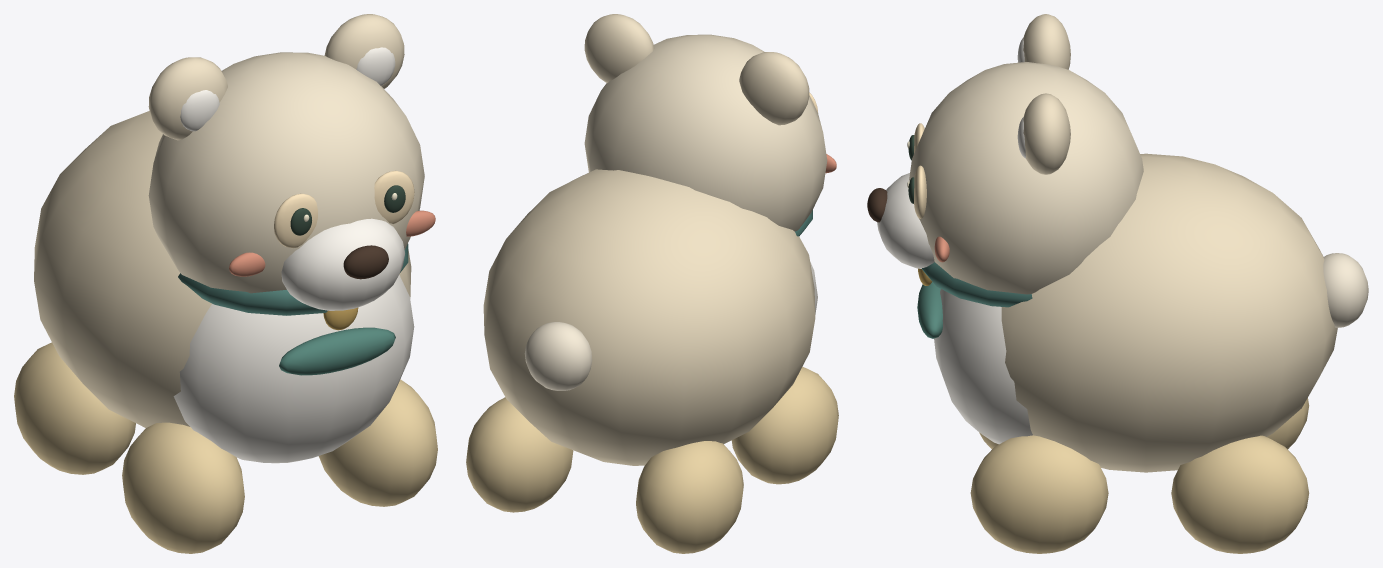
File: ursine.glb
3 renders of one model, left to right at view 1: azimuth 30°, elevation 25°; view 2: azimuth 150°, elevation 25°; view 3: azimuth 270°, elevation 25°, orthographic. The views are drawn at different scales.
Visible parts, largest first — view 1: body, leg (×3), ear (×4), eye (×2); view 2: body, leg (×3), ear (×2), tail; view 3: body, leg (×3), ear (×2), tail.
Boxes of the visible parts, x1,y1,x2,y2 form: body: [34, 52, 435, 463]; leg (×3): [14, 342, 437, 553]; ear (×4): [148, 14, 404, 140]; eye (×2): [274, 170, 414, 248]; body: [483, 34, 836, 465]; leg (×3): [466, 367, 838, 553]; ear (×2): [584, 14, 809, 125]; tail: [524, 322, 592, 390]; body: [867, 62, 1337, 472]; leg (×3): [970, 398, 1309, 553]; ear (×2): [1023, 14, 1070, 174]; tail: [1323, 253, 1368, 327].
Bounding box in the file's own units: 1.21 × 1.74 × 1.76.
